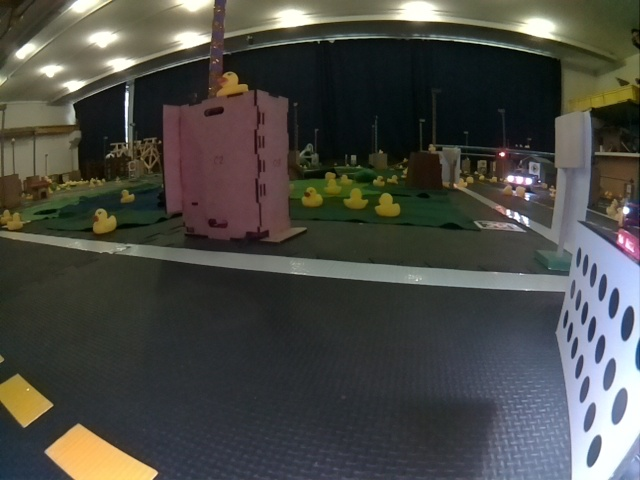Duckie: (218, 72, 248, 96), (94, 209, 117, 232), (377, 194, 400, 216), (345, 189, 368, 209), (303, 188, 322, 206), (8, 214, 22, 230), (325, 179, 340, 193), (122, 190, 134, 202), (340, 174, 352, 184), (373, 176, 384, 186), (1, 209, 12, 219), (389, 175, 398, 184), (457, 179, 466, 188)
QR code: (475, 220, 525, 230)
